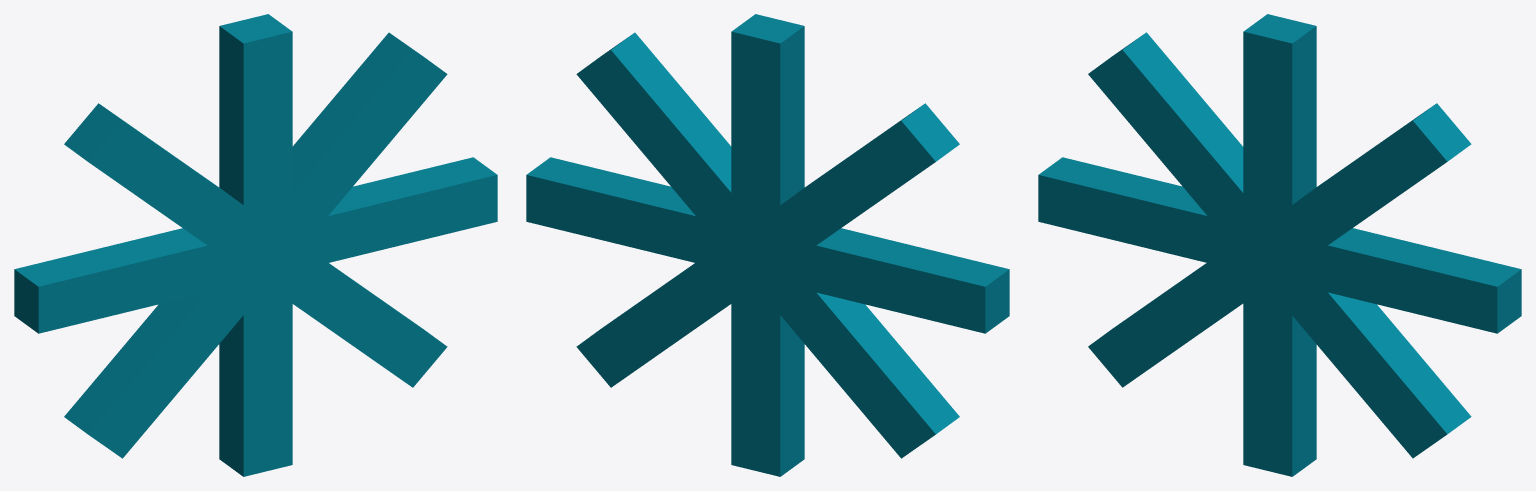
Rendered from star3.glb.
The picture shows the model from 3 angles, left to right: view 1: azimuth 30°, elevation 25°; view 2: azimuth 150°, elevation 25°; view 3: azimuth 330°, elevation 25°; orthographic projection.
Parts seen in each view (by area): view 1: Mesh_Mesh_head_geo.001_lambert2SG.001; view 2: Mesh_Mesh_head_geo.001_lambert2SG.001; view 3: Mesh_Mesh_head_geo.001_lambert2SG.001.
Boxes of the visible parts, box(x1,y1,x2,y2) form: Mesh_Mesh_head_geo.001_lambert2SG.001: box(14, 14, 497, 476); Mesh_Mesh_head_geo.001_lambert2SG.001: box(526, 14, 1009, 476); Mesh_Mesh_head_geo.001_lambert2SG.001: box(1038, 14, 1521, 476).
Bounding box in the file's own units: 0.44 × 0.397 × 0.04.
